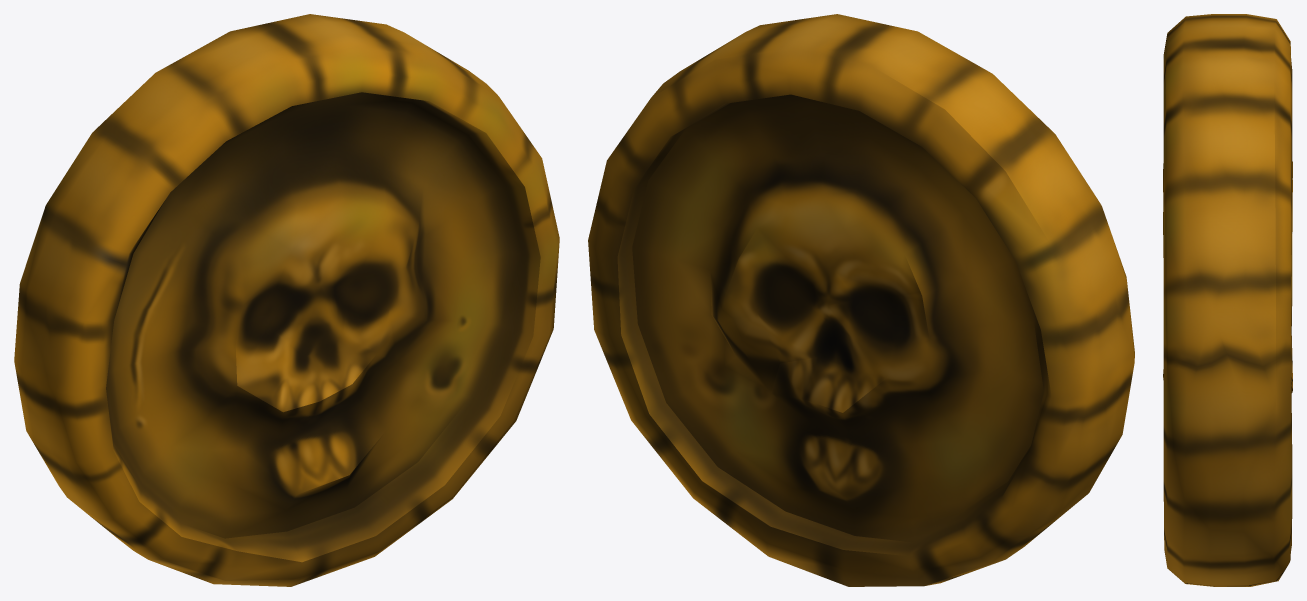
Rendered from pirates_coin.glb.
The picture shows the model from 3 angles, left to right: view 1: azimuth 30°, elevation 25°; view 2: azimuth 150°, elevation 25°; view 3: azimuth 270°, elevation 25°; orthographic projection. The views are drawn at different scales.
Visible parts, largest first — view 1: Object_2; view 2: Object_2; view 3: Object_2.
Boxes of the visible parts, left/top/right/bottom form: Object_2: left=14, top=14, right=559, bottom=586; Object_2: left=588, top=14, right=1134, bottom=586; Object_2: left=1163, top=14, right=1292, bottom=586.
Bounding box in the file's own units: 4.02 × 4.03 × 0.9108.
Materials: 1 (1 with a texture image).
